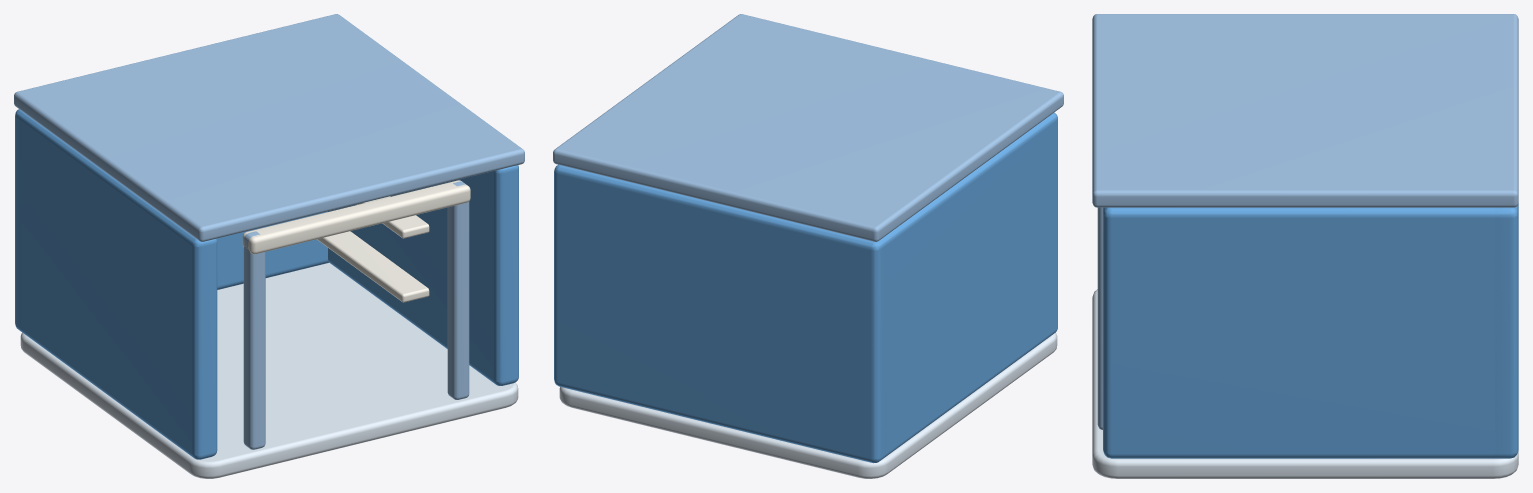
Rendered from pcv_hide_walkin_shelf.glb.
3 renders of one model, left to right at view 1: azimuth 30°, elevation 25°; view 2: azimuth 150°, elevation 25°; view 3: azimuth 270°, elevation 25°, orthographic. The views are drawn at different scales.
Parts seen in each view (by area): view 1: pcv_hide_walkin_shelf.roof_above_clearance, pcv_hide_walkin_shelf.side_enclosure_wall, pcv_hide_walkin_shelf.walk_surface_floor, pcv_hide_walkin_shelf.side_enclosure_wall.001, pcv_hide_walkin_shelf.clearance_lintel, pcv_hide_walkin_shelf.clear_door_jamb, pcv_hide_walkin_shelf.hide_rear_occluder, pcv_hide_walkin_shelf.clear_door_jamb.001, pcv_hide_walkin_shelf.side_storage_shelf.003, pcv_hide_walkin_shelf.side_storage_shelf.004; view 2: pcv_hide_walkin_shelf.hide_rear_occluder, pcv_hide_walkin_shelf.roof_above_clearance, pcv_hide_walkin_shelf.side_enclosure_wall, pcv_hide_walkin_shelf.walk_surface_floor; view 3: pcv_hide_walkin_shelf.side_enclosure_wall.001, pcv_hide_walkin_shelf.roof_above_clearance, pcv_hide_walkin_shelf.walk_surface_floor, pcv_hide_walkin_shelf.hide_rear_occluder, pcv_hide_walkin_shelf.clear_door_jamb.001.
Boxes of the visible parts, box(x1,y1,x2,y2) form: pcv_hide_walkin_shelf.roof_above_clearance: box(14, 14, 524, 241); pcv_hide_walkin_shelf.side_enclosure_wall: box(20, 114, 217, 459); pcv_hide_walkin_shelf.walk_surface_floor: box(20, 263, 518, 478); pcv_hide_walkin_shelf.side_enclosure_wall.001: box(328, 165, 518, 385); pcv_hide_walkin_shelf.clearance_lintel: box(242, 180, 470, 254); pcv_hide_walkin_shelf.clear_door_jamb: box(243, 231, 265, 449); pcv_hide_walkin_shelf.hide_rear_occluder: box(15, 109, 328, 333); pcv_hide_walkin_shelf.clear_door_jamb.001: box(447, 181, 469, 399); pcv_hide_walkin_shelf.side_storage_shelf.003: box(317, 231, 429, 302); pcv_hide_walkin_shelf.side_storage_shelf.004: box(357, 196, 429, 238); pcv_hide_walkin_shelf.hide_rear_occluder: box(554, 164, 887, 463); pcv_hide_walkin_shelf.roof_above_clearance: box(553, 14, 1063, 241); pcv_hide_walkin_shelf.side_enclosure_wall: box(882, 112, 1057, 456); pcv_hide_walkin_shelf.walk_surface_floor: box(559, 332, 1057, 478); pcv_hide_walkin_shelf.side_enclosure_wall.001: box(1103, 207, 1499, 458); pcv_hide_walkin_shelf.roof_above_clearance: box(1092, 14, 1518, 207); pcv_hide_walkin_shelf.walk_surface_floor: box(1092, 289, 1518, 478); pcv_hide_walkin_shelf.hide_rear_occluder: box(1495, 203, 1518, 458); pcv_hide_walkin_shelf.clear_door_jamb.001: box(1097, 207, 1102, 429).
Size of the model in its own units: 4 by 2.99 by 4.
